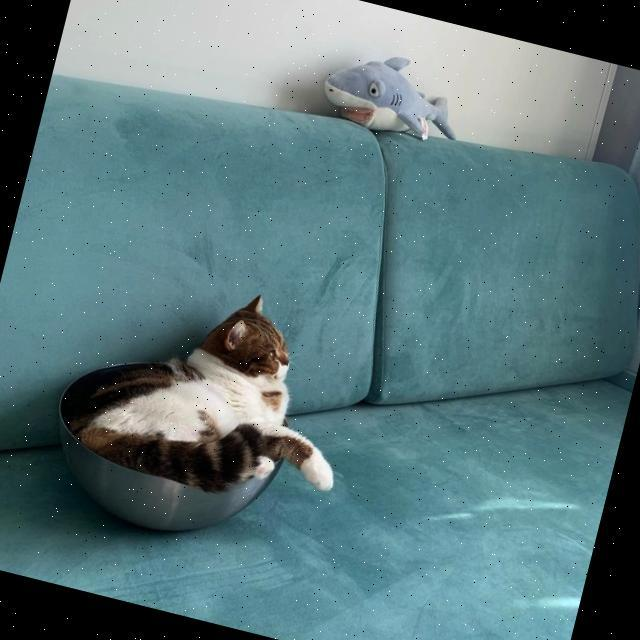Cats: (57, 297, 333, 493)
